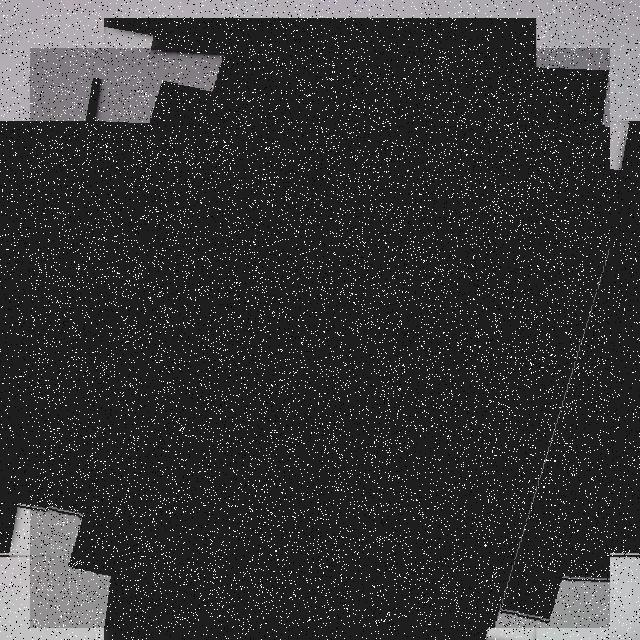dua ribu rupiah: (30, 48, 610, 628)
